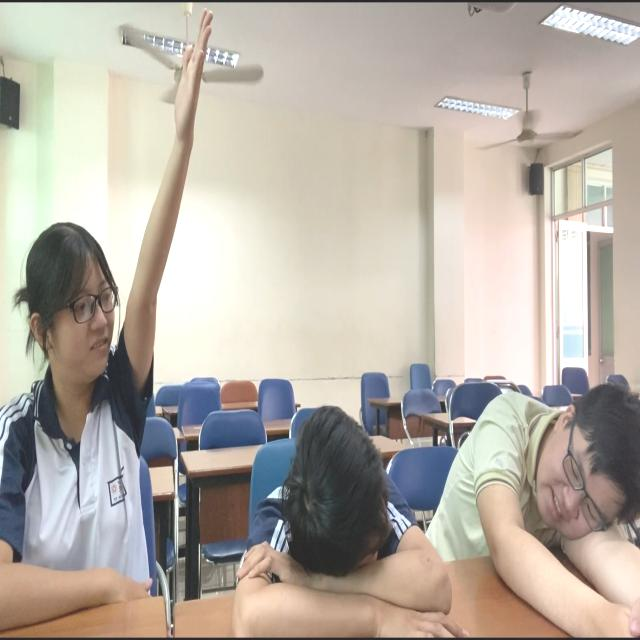raise_hand: (1, 1, 217, 640)
sleep: (214, 399, 463, 640), (439, 371, 640, 640)
